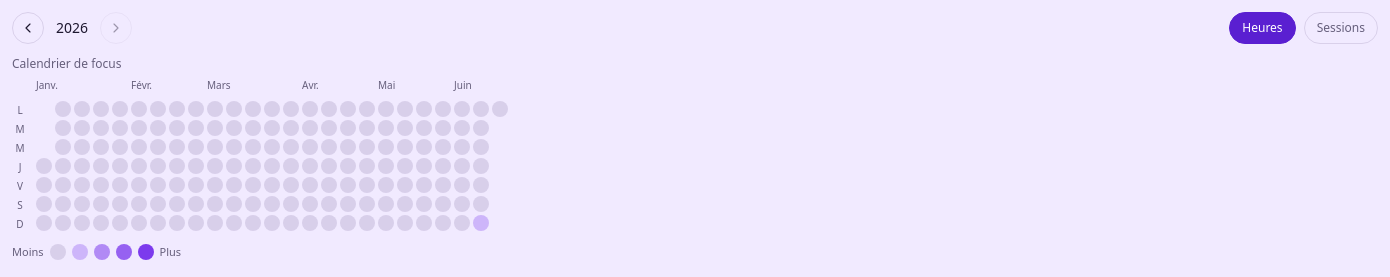
Test case: CalendarSection — navigation par année civile et unité heures / sessions (§9) › reflète une session enregistrée en mode « Sessions »
The width and height of the screenshot is (1390, 277).
What coordinates should you click on to do the following:
click the button "Sessions"
I would click on:
 (1341, 28)
Its box is [1304,12,1378,44].
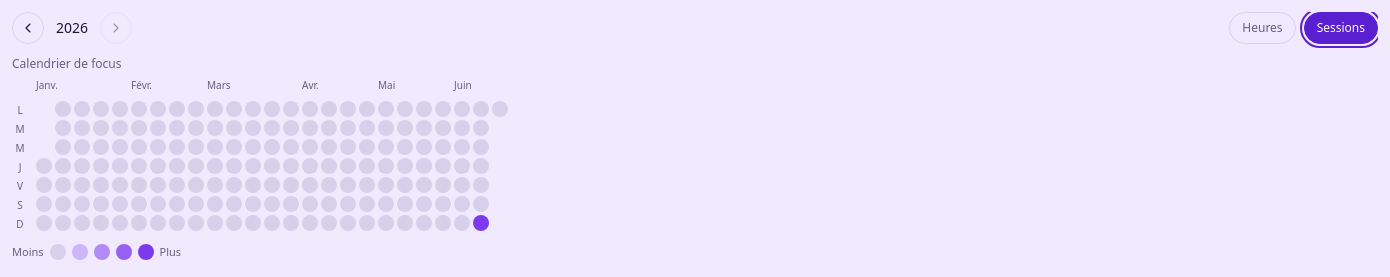
Expected: the picture named "1 session" is shown, [473,215,489,231]
